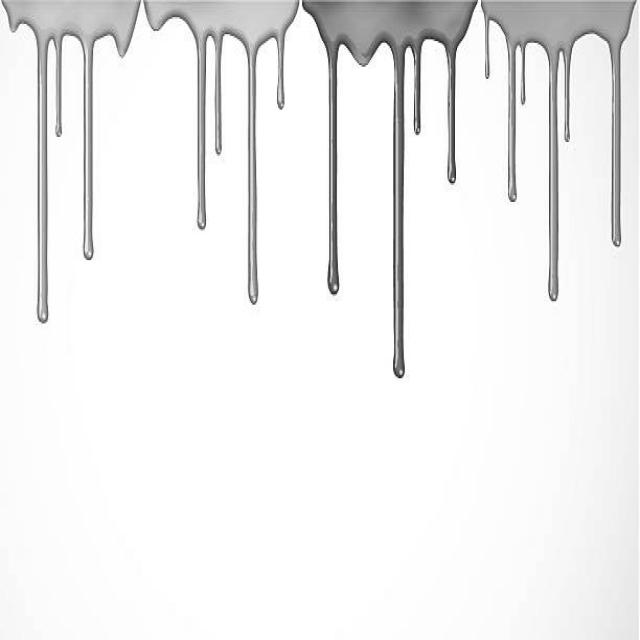paint drips: (305, 0, 477, 384), (478, 0, 640, 315), (139, 0, 302, 306), (1, 0, 140, 329)
